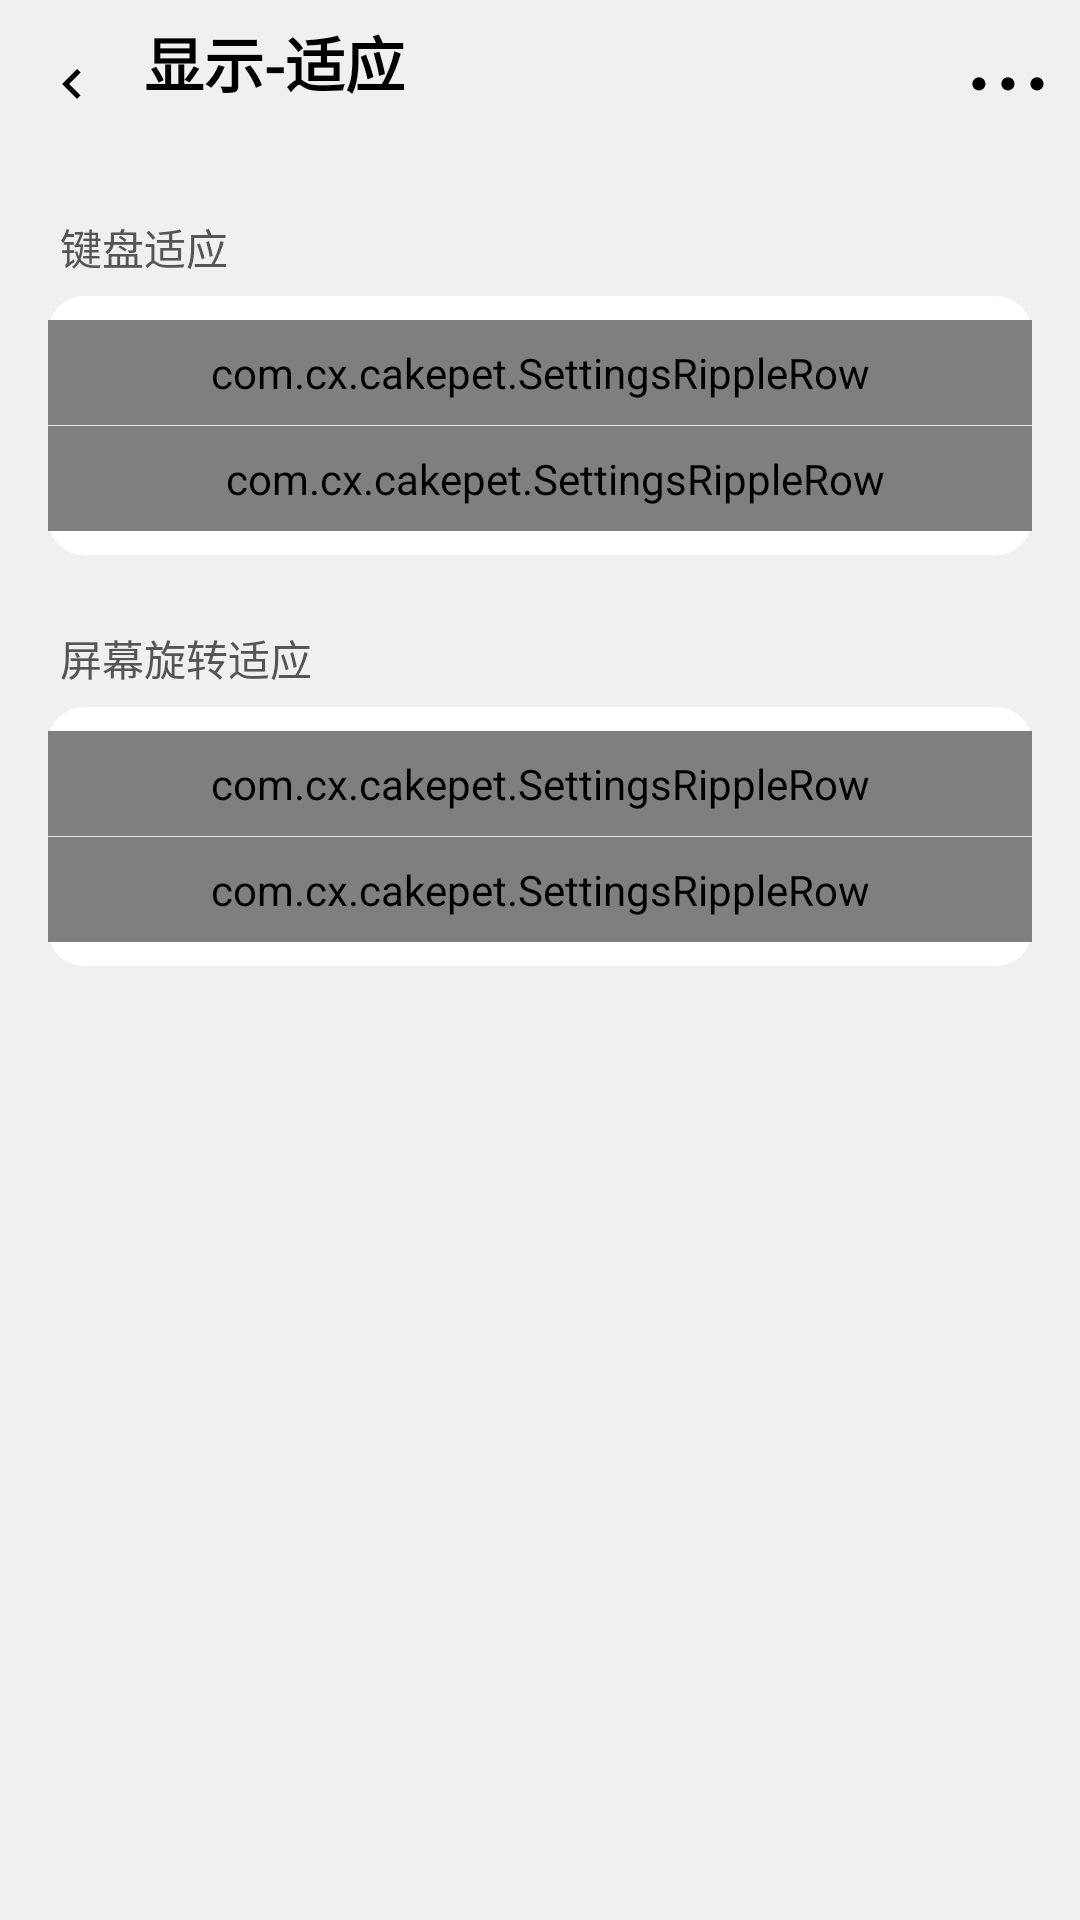

Point at icon controls on the screen. Image size 1080×1920, points as [x,y].
更多: [1008,84]
返回: [71,84]
